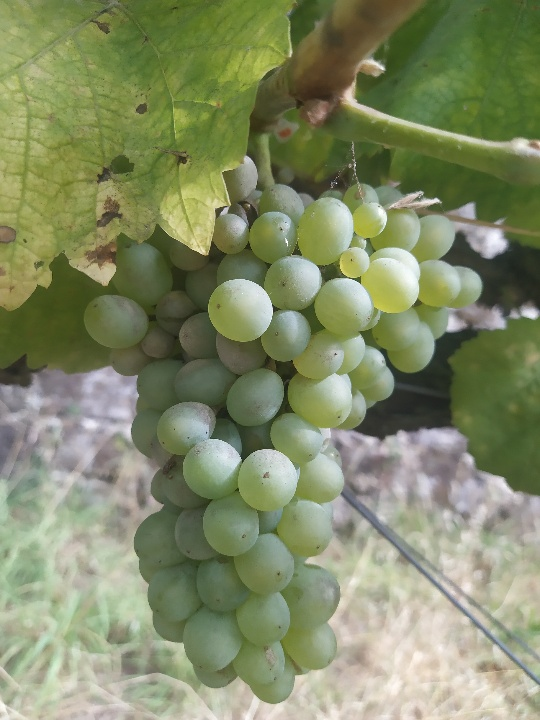grape: (78, 154, 487, 706)
